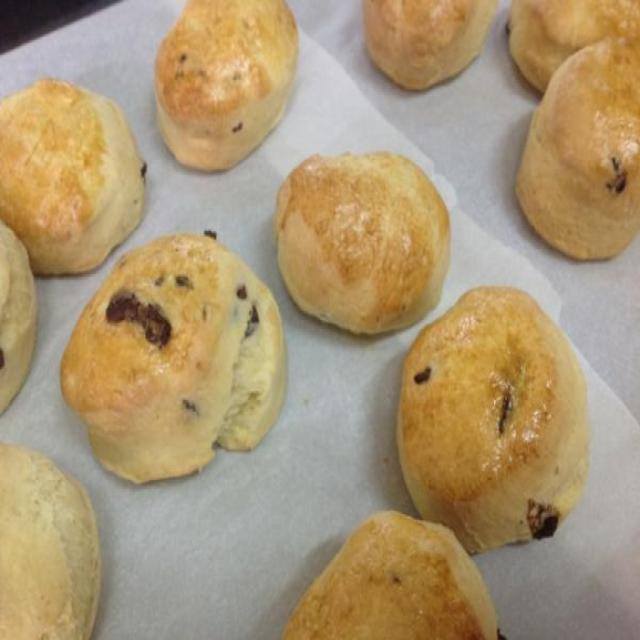面包点心: (3, 10, 631, 627)
